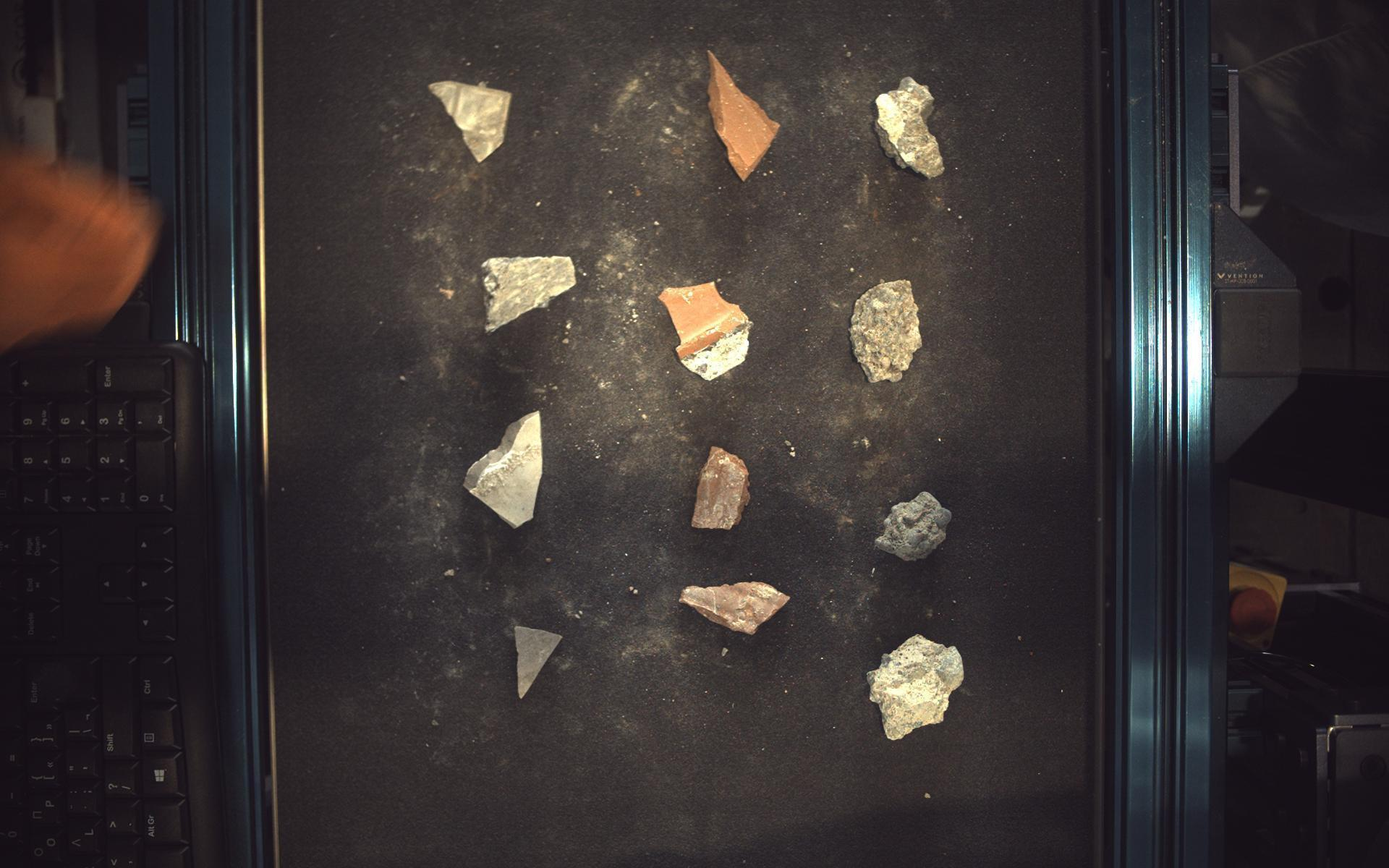brick: (710, 49, 781, 179), (660, 281, 753, 380), (682, 582, 791, 636), (692, 446, 750, 530)
concrete: (870, 636, 966, 741), (851, 280, 924, 383), (876, 75, 946, 178), (877, 492, 953, 562)
tile: (464, 412, 543, 528), (483, 255, 577, 332), (429, 80, 512, 161), (515, 627, 562, 699)
